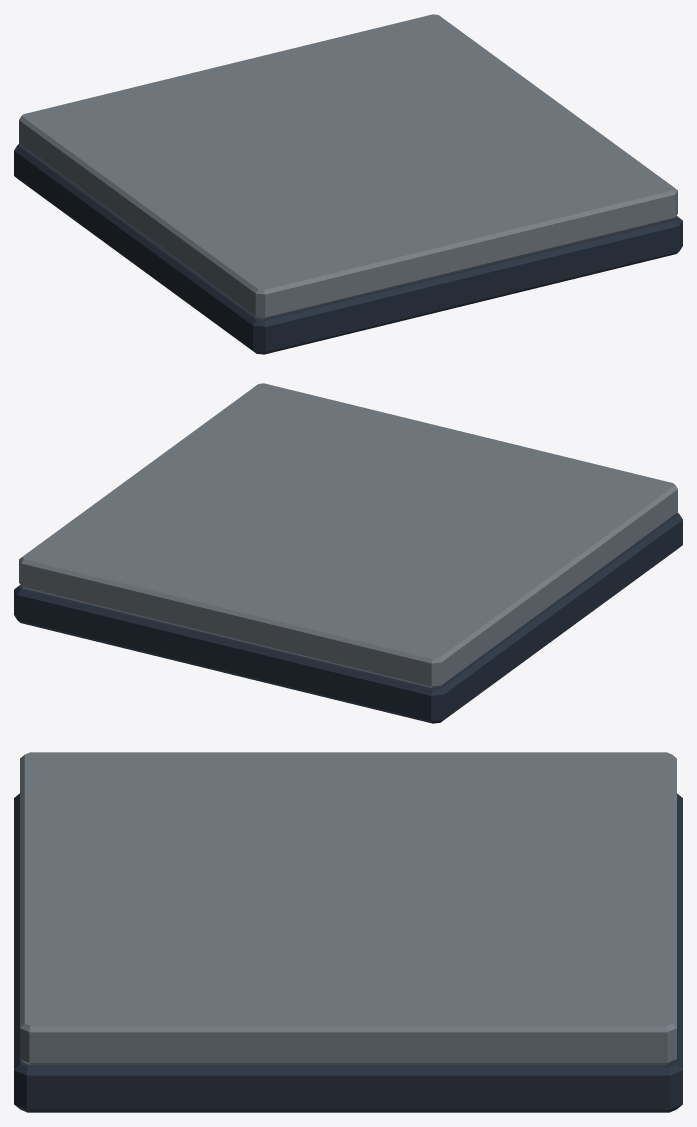
The model's file is floor-small.glb.
3 renders of one model, top to bottom at view 1: azimuth 30°, elevation 25°; view 2: azimuth 150°, elevation 25°; view 3: azimuth 270°, elevation 25°, orthographic. The views are drawn at different scales.
Visible parts, largest first — view 1: floor-small__body; view 2: floor-small__body; view 3: floor-small__body.
Part boxes in pixels (<box>): floor-small__body: <box>14,14,682,354</box>; floor-small__body: <box>14,383,682,723</box>; floor-small__body: <box>14,752,682,1112</box>.
Size of the model in its own units: 1 by 0.14 by 1.
